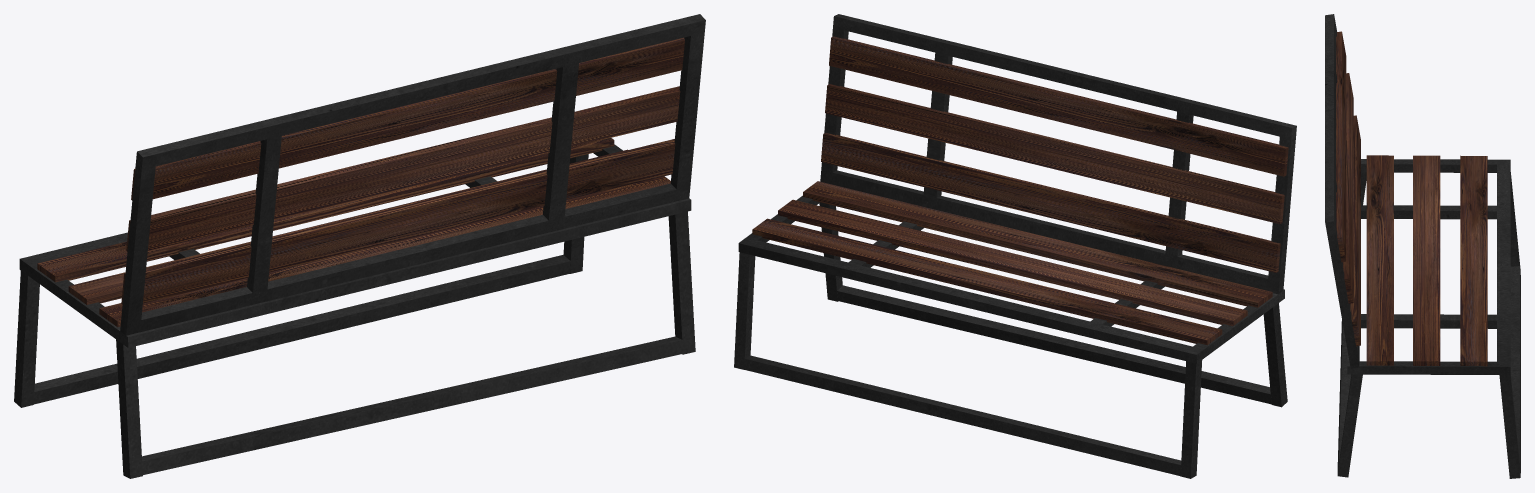
File: WoodenBench.fbx
The picture shows the model from 3 angles, left to right: view 1: azimuth 30°, elevation 25°; view 2: azimuth 150°, elevation 25°; view 3: azimuth 270°, elevation 25°; orthographic projection. The views are drawn at different scales.
Visible parts, largest first — view 1: WoodenBench; view 2: WoodenBench; view 3: WoodenBench.
Part boxes in pixels (bbox=[...]): WoodenBench: bbox=[14, 14, 705, 478]; WoodenBench: bbox=[734, 14, 1296, 478]; WoodenBench: bbox=[1325, 14, 1520, 478].
Size of the model in its own units: 180 by 105 by 71.84.
